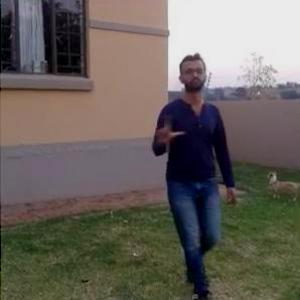land_hand: (150, 108, 183, 148)
